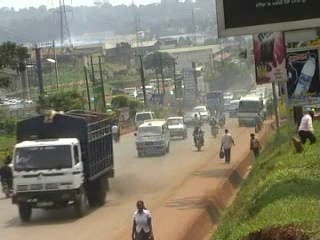Car: (167, 114, 187, 139), (192, 106, 211, 119)
Motorcycle: (194, 136, 201, 152), (211, 124, 217, 138), (113, 134, 120, 144), (219, 118, 225, 129)
